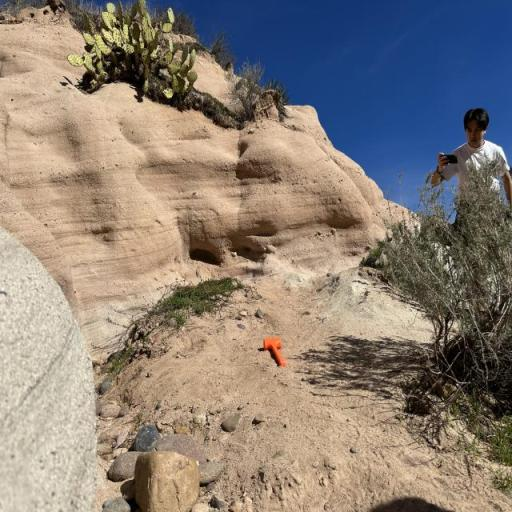mallet: (264, 337, 286, 367)
